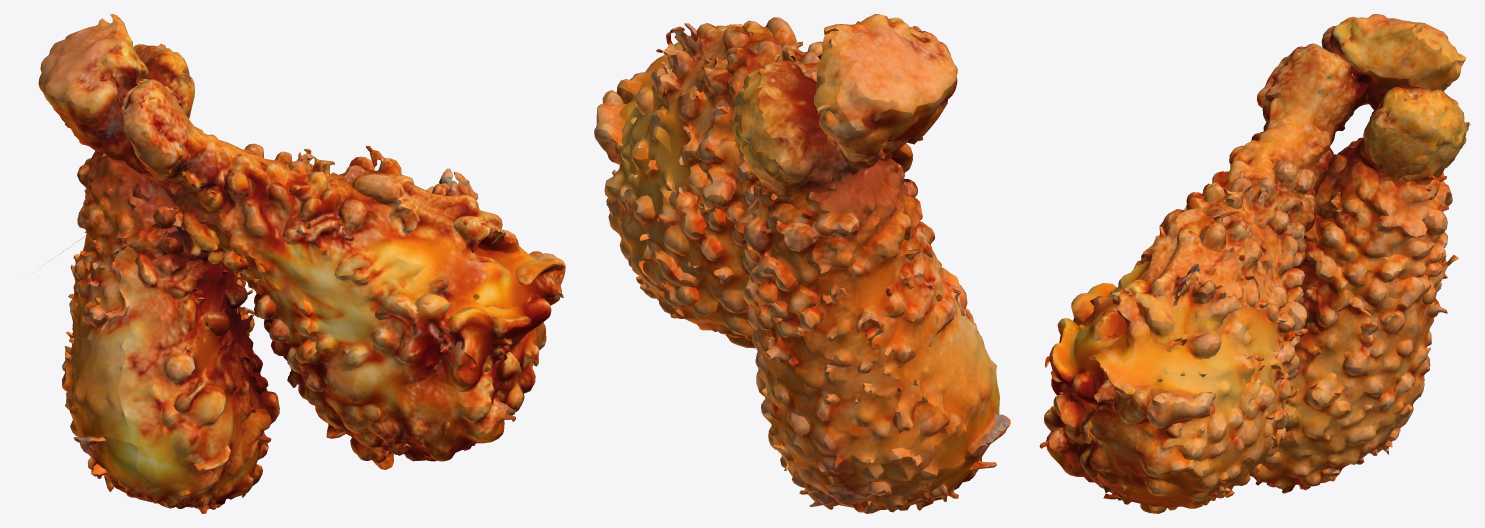
Rendered from fried chicken 3d model2.glb.
3 renders of one model, left to right at view 1: azimuth 30°, elevation 25°; view 2: azimuth 150°, elevation 25°; view 3: azimuth 270°, elevation 25°, orthographic. The views are drawn at different scales.
Parts seen in each view (by area): view 1: tmpycpt1yv0.ply; view 2: tmpycpt1yv0.ply; view 3: tmpycpt1yv0.ply.
Part boxes in pixels (left/top/right/bottom): tmpycpt1yv0.ply: left=38, top=14, right=565, bottom=513; tmpycpt1yv0.ply: left=594, top=14, right=1010, bottom=513; tmpycpt1yv0.ply: left=1039, top=14, right=1470, bottom=513.
Size of the model in its own units: 1.9 by 1.96 by 1.71.
Materials: 1 (1 with a texture image).
